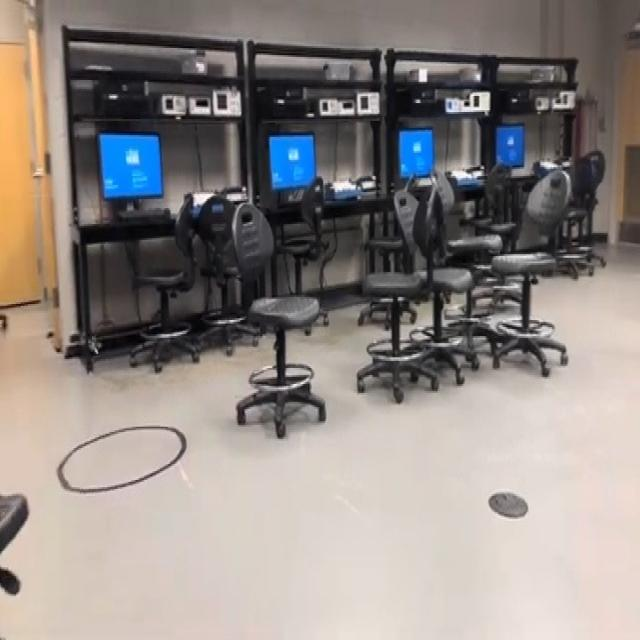drone: (81, 318, 105, 371)
